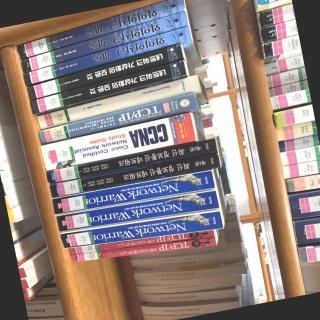book-spine: (19, 10, 190, 73), (16, 0, 187, 60), (22, 26, 192, 86), (37, 75, 201, 131), (40, 113, 195, 172), (25, 44, 183, 101), (37, 92, 198, 147), (29, 60, 187, 114), (49, 152, 221, 198), (45, 139, 217, 184), (52, 170, 214, 216), (56, 190, 220, 232), (58, 211, 224, 249), (69, 237, 217, 262), (68, 230, 214, 255)
